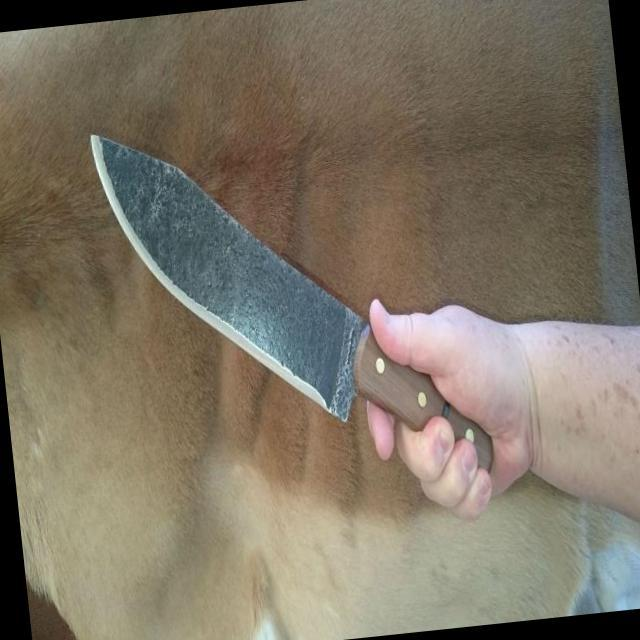Knife: (81, 82, 510, 560)
